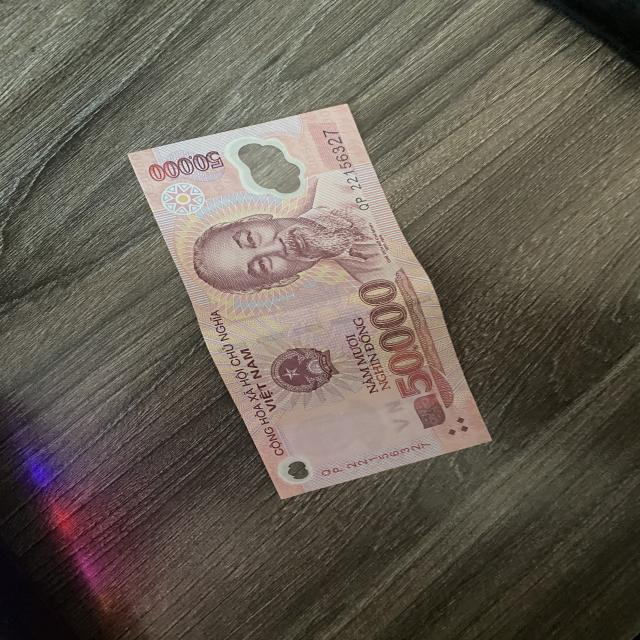50 000 VND: (124, 103, 495, 501)
